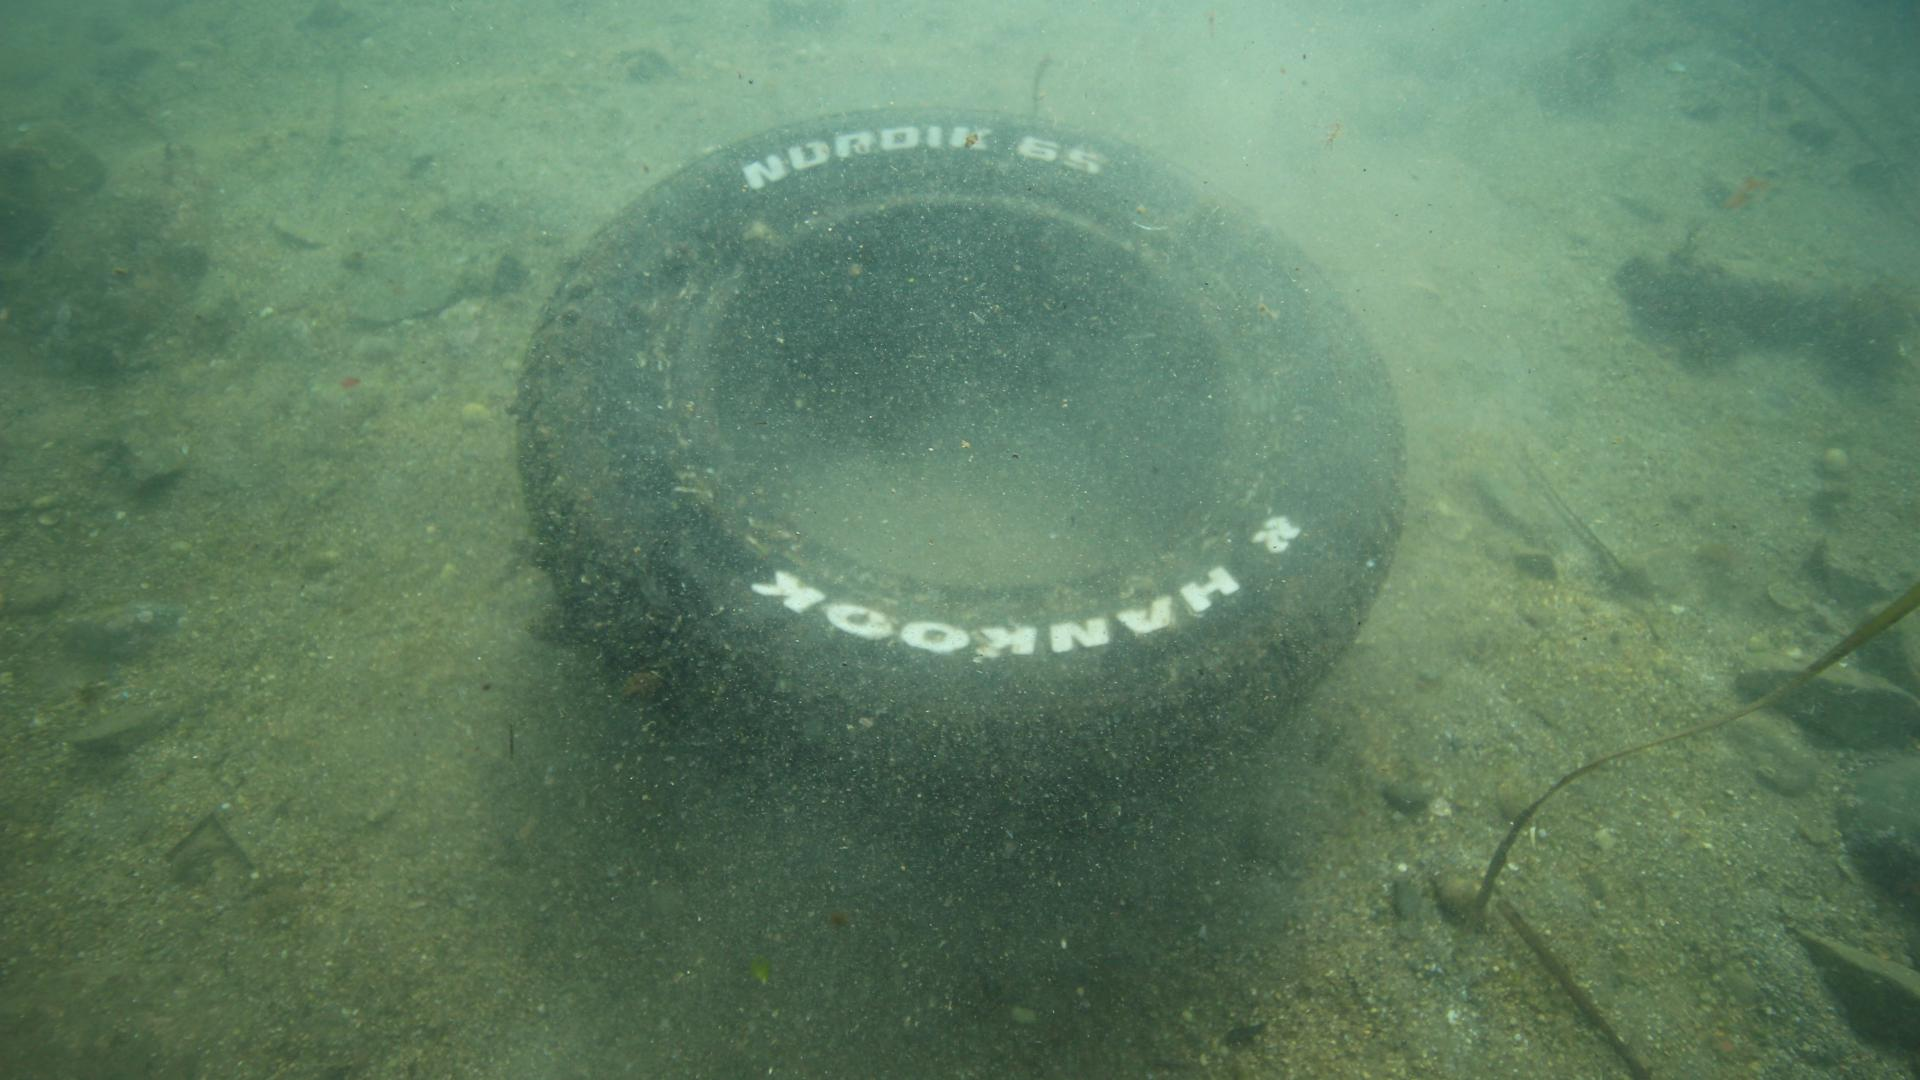tire: (518, 105, 1412, 833)
